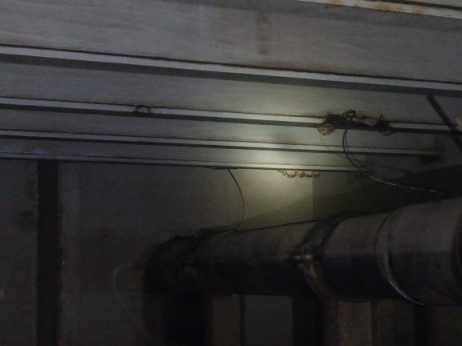corrosion: (304, 107, 393, 136)
